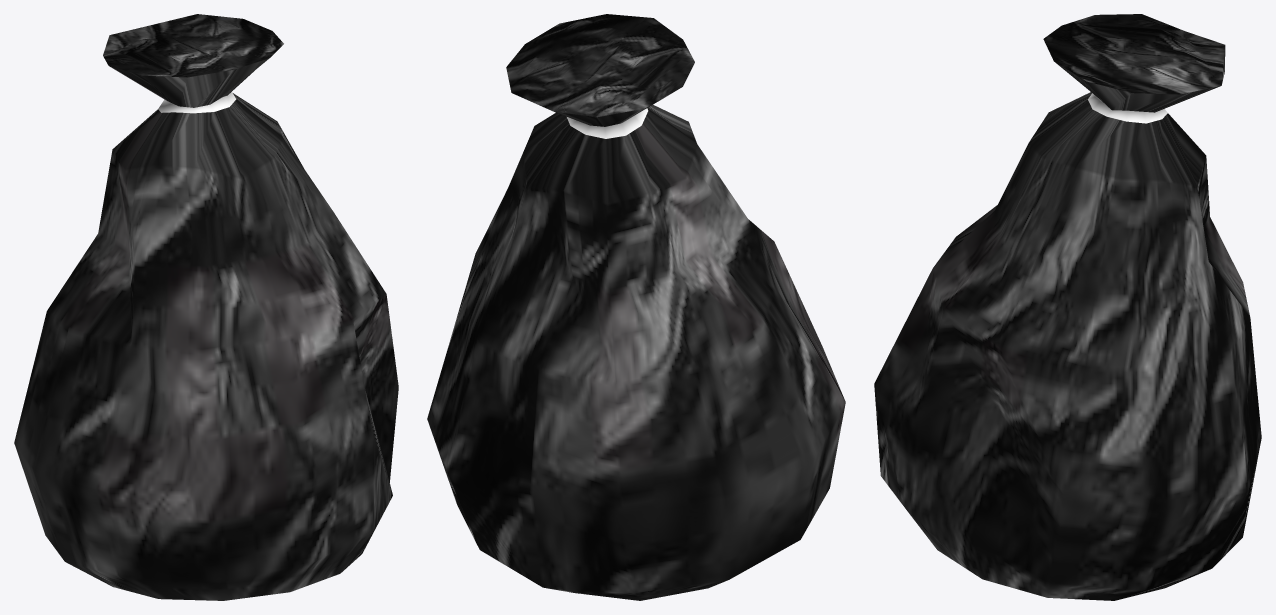
File: LIXO.fbx
3 views of the same model, side by side, from view 1: azimuth 30°, elevation 25°; view 2: azimuth 150°, elevation 25°; view 3: azimuth 270°, elevation 25° (orthographic). The views are drawn at different scales.
Parts seen in each view (by area): view 1: Cylinder.006; view 2: Cylinder.006; view 3: Cylinder.006.
Boxes of the visible parts, x1,y1,x2,y2 form: Cylinder.006: (14, 14, 398, 600); Cylinder.006: (427, 14, 845, 600); Cylinder.006: (874, 14, 1261, 600).
Bounding box in the file's own units: 210 × 292 × 198.
